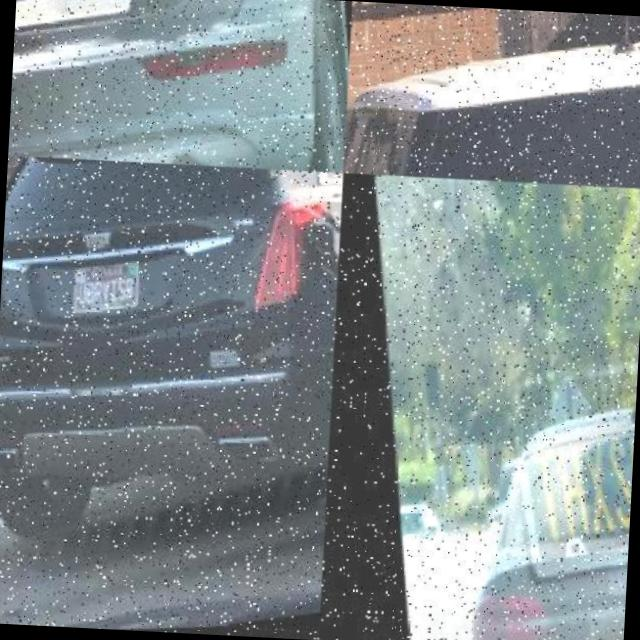LicensePlate: (14, 0, 129, 58), (70, 264, 135, 315)
